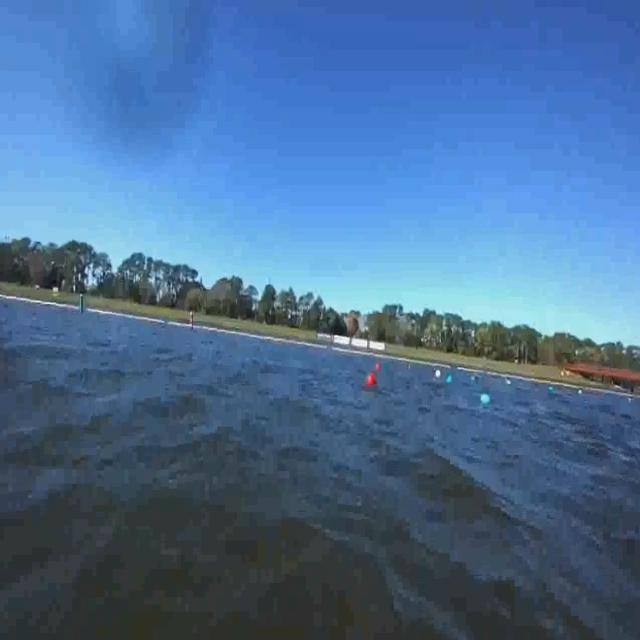green-buoy: (482, 392, 492, 404), (447, 375, 454, 385), (550, 383, 556, 393)
red-buoy: (366, 373, 377, 389)
